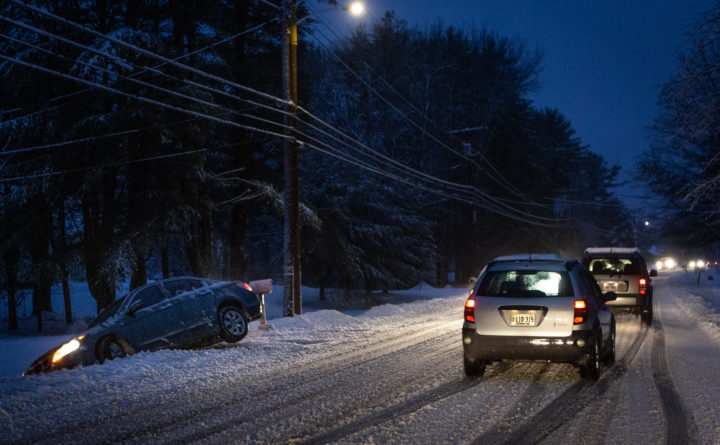car: (25, 275, 261, 370), (462, 252, 616, 382), (583, 245, 658, 326)
